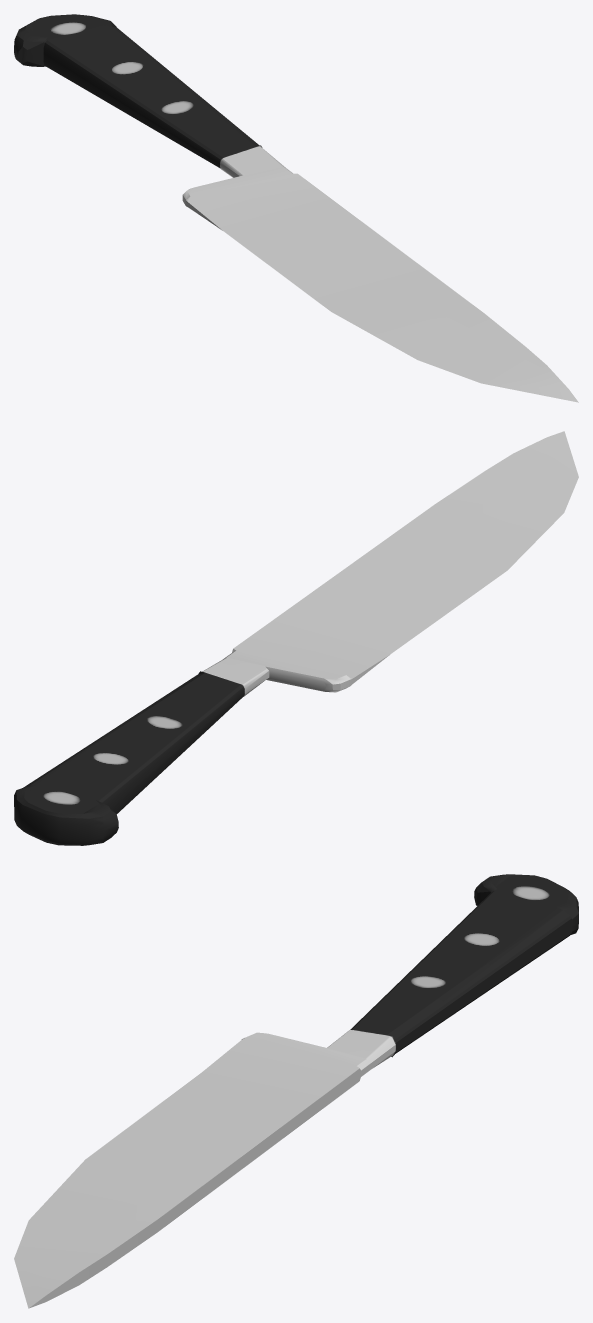
File: clue_knife.obj
3 views of the same model, one above another, from view 1: azimuth 30°, elevation 25°; view 2: azimuth 150°, elevation 25°; view 3: azimuth 330°, elevation 25° (orthographic). The views are drawn at different scales.
Parts seen in each view (by area): view 1: pCube1; view 2: pCube1; view 3: pCube1.
Part boxes in pixels (x1,y1,x2,y2): pCube1: (14, 14, 578, 402); pCube1: (14, 431, 578, 845); pCube1: (14, 874, 578, 1308).
Size of the model in its own units: 2.73 by 0.678 by 20.08.
